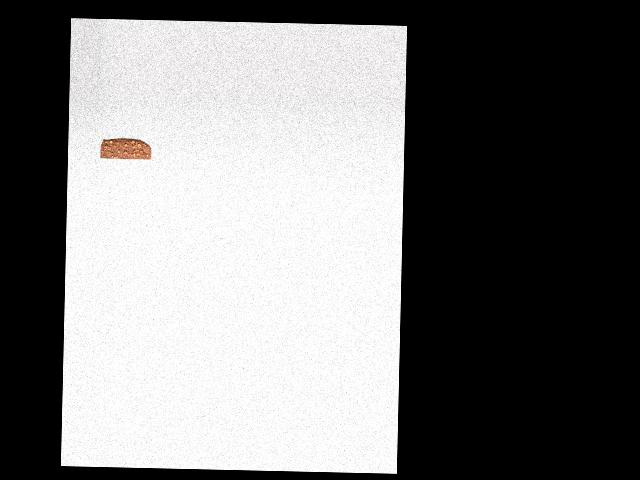chocolate: (100, 134, 151, 161)
